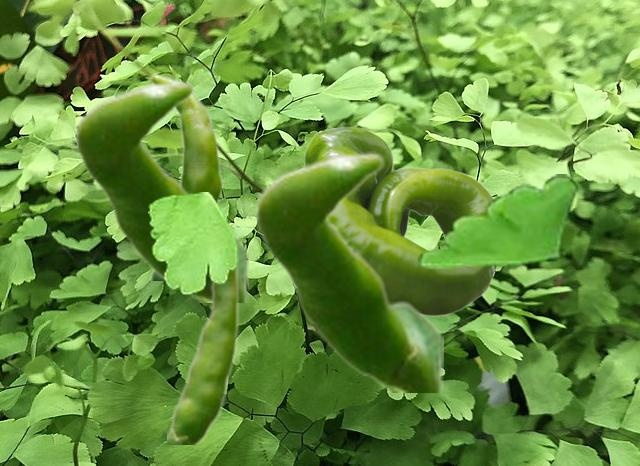green_chili: (254, 151, 442, 391), (74, 80, 247, 301), (303, 126, 497, 315), (148, 72, 223, 279), (167, 253, 239, 443)
